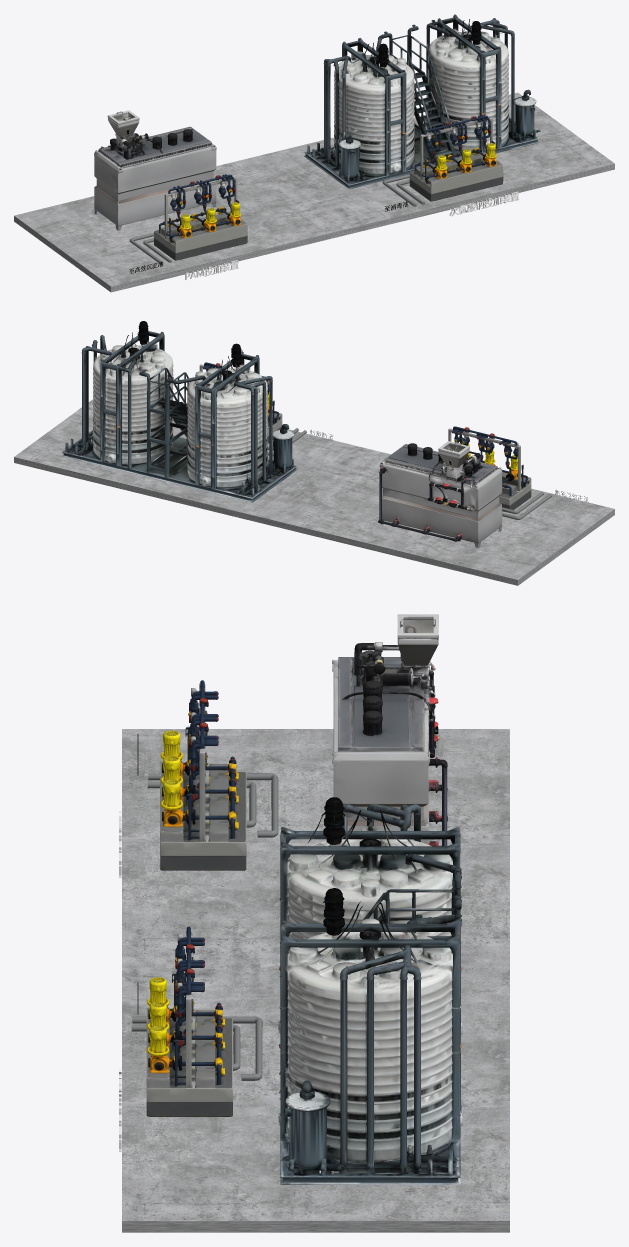
Rendered from PAM和次氯酸钠加药.max1024.glb.
The picture shows the model from 3 angles, top to bottom: view 1: azimuth 30°, elevation 25°; view 2: azimuth 150°, elevation 25°; view 3: azimuth 270°, elevation 25°; orthographic projection. The views are drawn at different scales.
Parts seen in each view (by area): view 1: Rectangle146, 加药桶, PAM加药设备001, node_0, node_014, 对象007, 对象005; view 2: Rectangle146, 加药桶, PAM加药设备001, node_0, node_014; view 3: Rectangle146, 加药桶, PAM加药设备001, node_0, node_014, 次氯酸钠1号加药搅拌机, Line030, Line028, 次氯酸钠2号加药搅拌机.
Part boxes in pixels (x1,y1,x2,y2): Rectangle146: (14, 92, 614, 292); 加药桶: (304, 14, 540, 189); PAM加药设备001: (94, 110, 216, 230); node_0: (154, 174, 247, 260); node_014: (409, 115, 503, 201); 对象007: (449, 191, 519, 216); 对象005: (185, 260, 238, 280); Rectangle146: (14, 399, 614, 585); 加药桶: (62, 329, 297, 502); PAM加药设备001: (378, 441, 502, 547); node_0: (448, 426, 531, 512); node_014: (199, 362, 282, 443); Rectangle146: (122, 729, 509, 1232); 加药桶: (278, 804, 462, 1184); PAM加药设备001: (332, 614, 447, 846); node_0: (160, 680, 246, 870); node_014: (146, 926, 232, 1116); 次氯酸钠1号加药搅拌机: (307, 797, 349, 846); Line030: (132, 1016, 262, 1080); Line028: (148, 773, 278, 837); 次氯酸钠2号加药搅拌机: (323, 888, 344, 935).
Bounding box in the file's own units: 20.47 × 5.29 × 6.87.
Materials: 7 (4 with a texture image).
